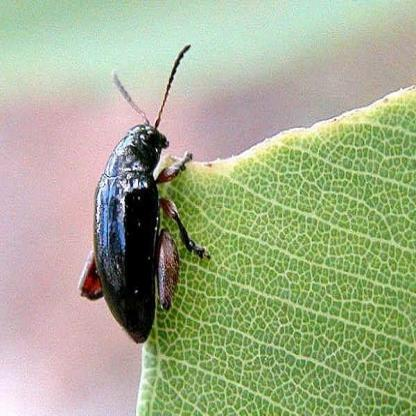beetle: (81, 52, 214, 352)
